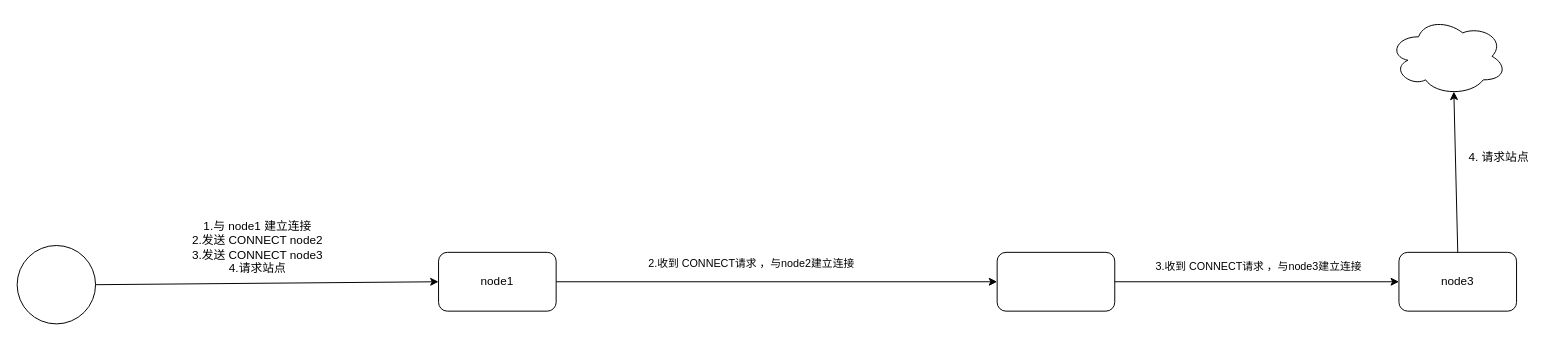
This 1558x341 diagram has some shape labels left out. Each missing label, with the box of its shape:
node2: (996, 251, 1115, 311)
site: (1388, 16, 1507, 96)
